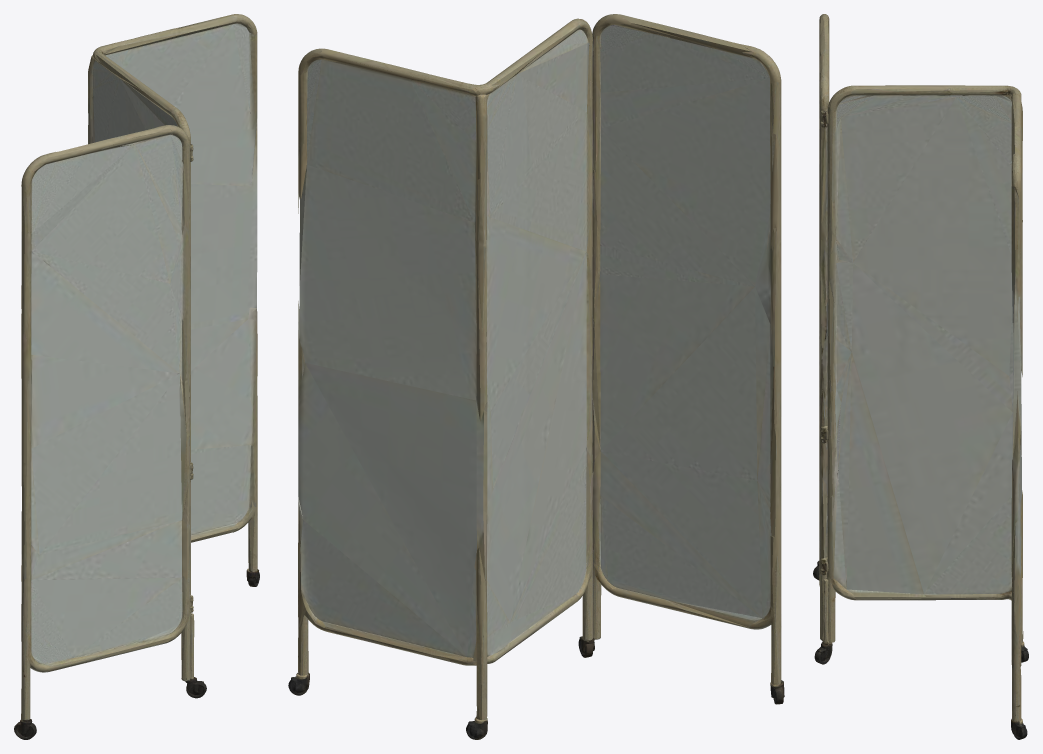
The model's file is paravento_B.glb.
The picture shows the model from 3 angles, left to right: view 1: azimuth 30°, elevation 25°; view 2: azimuth 150°, elevation 25°; view 3: azimuth 270°, elevation 25°; orthographic projection. The views are drawn at different scales.
Parts seen in each view (by area): view 1: Mesh_0; view 2: Mesh_0; view 3: Mesh_0.
Boxes of the visible parts, <box> form: Mesh_0: <box>14,14,259,739</box>; Mesh_0: <box>288,14,784,739</box>; Mesh_0: <box>813,14,1028,739</box>.
Size of the model in its own units: 1.12 by 1.8 by 0.6128.
1 material, 1 textured.
